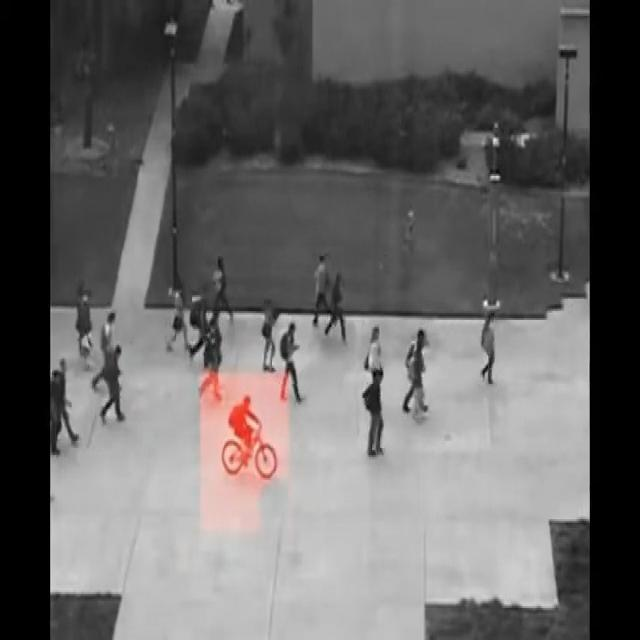anamoly: (194, 388, 293, 510)
